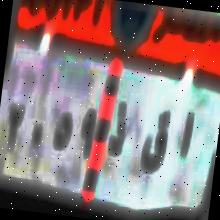0: (30, 117, 45, 152)
2: (1, 95, 28, 158)
5: (52, 103, 74, 157)
9: (76, 104, 98, 162)
alif: (173, 108, 197, 170)
qaaf: (136, 102, 172, 188)
zaal: (106, 96, 130, 170)
